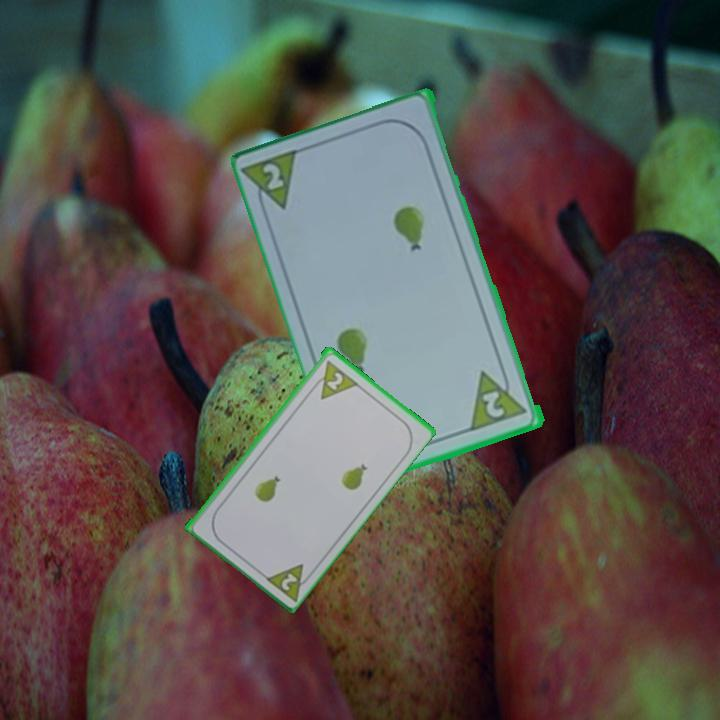2p: (468, 362, 531, 434), (260, 559, 317, 604), (307, 355, 360, 402), (260, 160, 288, 194)
